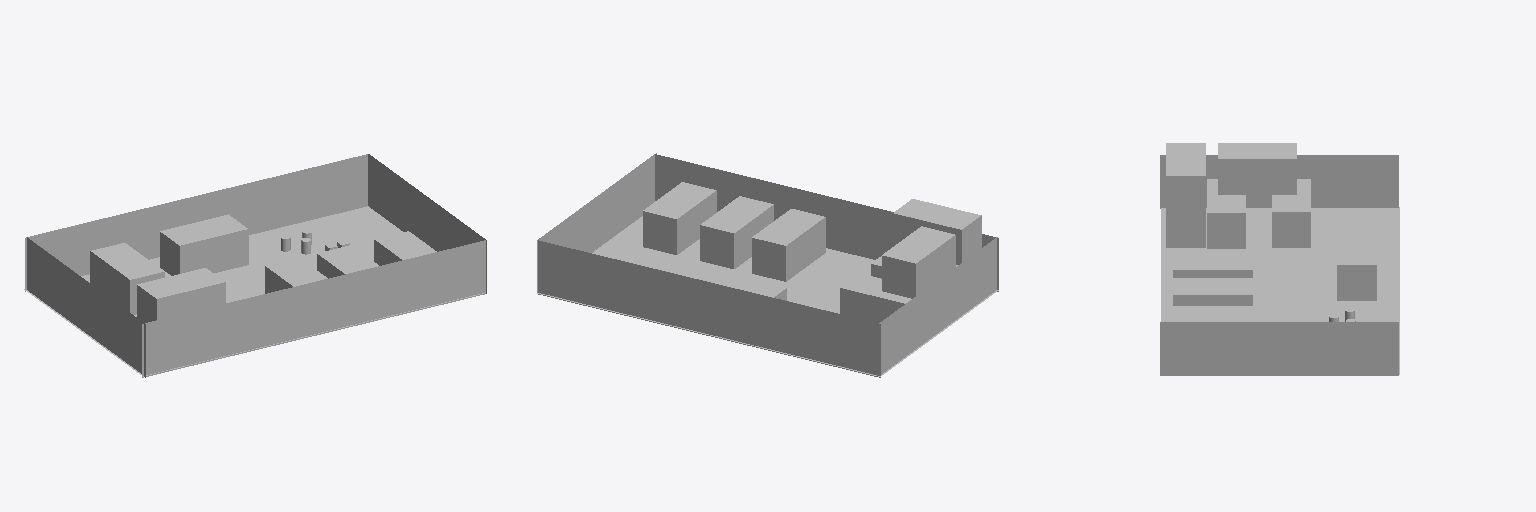
The model's file is map_v2.obj.
3 renders of one model, left to right at view 1: azimuth 30°, elevation 25°; view 2: azimuth 150°, elevation 25°; view 3: azimuth 270°, elevation 25°, orthographic.
Visible parts, largest first — view 1: wall_1.001_Plane.005, wall_1_Plane.002, floor_Plane, wall_3.001_Plane.006, wall_3_Plane.003, container_green_closed_1.001_Cube.012, container_blue_closed_2.001_Cube.010, container_blue_closed_2.002_Cube.011, container_orange_closed_1_Cube.006, container_grey_closed_1_Cube.009, container_purple_closed_1_Cube.007; view 2: wall_1_Plane.002, wall_1.001_Plane.005, floor_Plane, wall_3.001_Plane.006, wall_3_Plane.003, container_orange_closed_1_Cube.006, container_blue_closed_2.002_Cube.011, container_grey_closed_1_Cube.009, container_purple_closed_1_Cube.007, container_blue_closed_2.001_Cube.010, container_green_closed_1_Cube.004, container_green_closed_1.001_Cube.012; view 3: floor_Plane, wall_3_Plane.003, wall_3.001_Plane.006, container_blue_closed_2.002_Cube.011, container_green_closed_1.001_Cube.012, container_blue_closed_2.001_Cube.010, container_green_closed_1_Cube.004, container_red_closed_1_Cube.002, container_purple_closed_1_Cube.007, container_orange_closed_1_Cube.006, container_blue_closed_2_Cube.001, container_grey_closed_1_Cube.009.
Part boxes in pixels (x1,y1,x2,y2): wall_1.001_Plane.005: (142, 240, 485, 377); wall_1_Plane.002: (25, 154, 367, 291); floor_Plane: (24, 206, 483, 376); wall_3.001_Plane.006: (27, 237, 145, 377); wall_3_Plane.003: (368, 154, 486, 293); container_green_closed_1.001_Cube.012: (160, 214, 248, 275); container_blue_closed_2.001_Cube.010: (137, 268, 225, 322); container_blue_closed_2.002_Cube.011: (90, 243, 164, 314); container_orange_closed_1_Cube.006: (265, 258, 327, 293); container_grey_closed_1_Cube.009: (374, 231, 436, 265); container_purple_closed_1_Cube.007: (317, 245, 378, 278); wall_1_Plane.002: (538, 240, 880, 377); wall_1.001_Plane.005: (655, 154, 998, 291); floor_Plane: (537, 216, 998, 376); wall_3.001_Plane.006: (879, 237, 997, 374); wall_3_Plane.003: (537, 153, 656, 292); container_orange_closed_1_Cube.006: (752, 209, 825, 281); container_blue_closed_2.002_Cube.011: (882, 226, 955, 298); container_grey_closed_1_Cube.009: (643, 182, 716, 254); container_purple_closed_1_Cube.007: (700, 196, 773, 268); container_blue_closed_2.001_Cube.010: (893, 199, 981, 264); container_green_closed_1_Cube.004: (840, 273, 911, 322); container_green_closed_1.001_Cube.012: (705, 271, 786, 300); floor_Plane: (1161, 207, 1399, 374); wall_3_Plane.003: (1160, 322, 1398, 375); wall_3.001_Plane.006: (1160, 155, 1398, 208); container_blue_closed_2.002_Cube.011: (1218, 143, 1296, 194); container_green_closed_1.001_Cube.012: (1337, 232, 1376, 300); container_blue_closed_2.001_Cube.010: (1166, 143, 1205, 211); container_green_closed_1_Cube.004: (1272, 179, 1310, 247); container_red_closed_1_Cube.002: (1207, 179, 1245, 248); container_purple_closed_1_Cube.007: (1173, 278, 1252, 305); container_orange_closed_1_Cube.006: (1173, 253, 1252, 277); container_blue_closed_2_Cube.001: (1166, 212, 1205, 247); container_grey_closed_1_Cube.009: (1173, 306, 1252, 321).
Size of the model in its own units: 2000 by 410 by 1207.